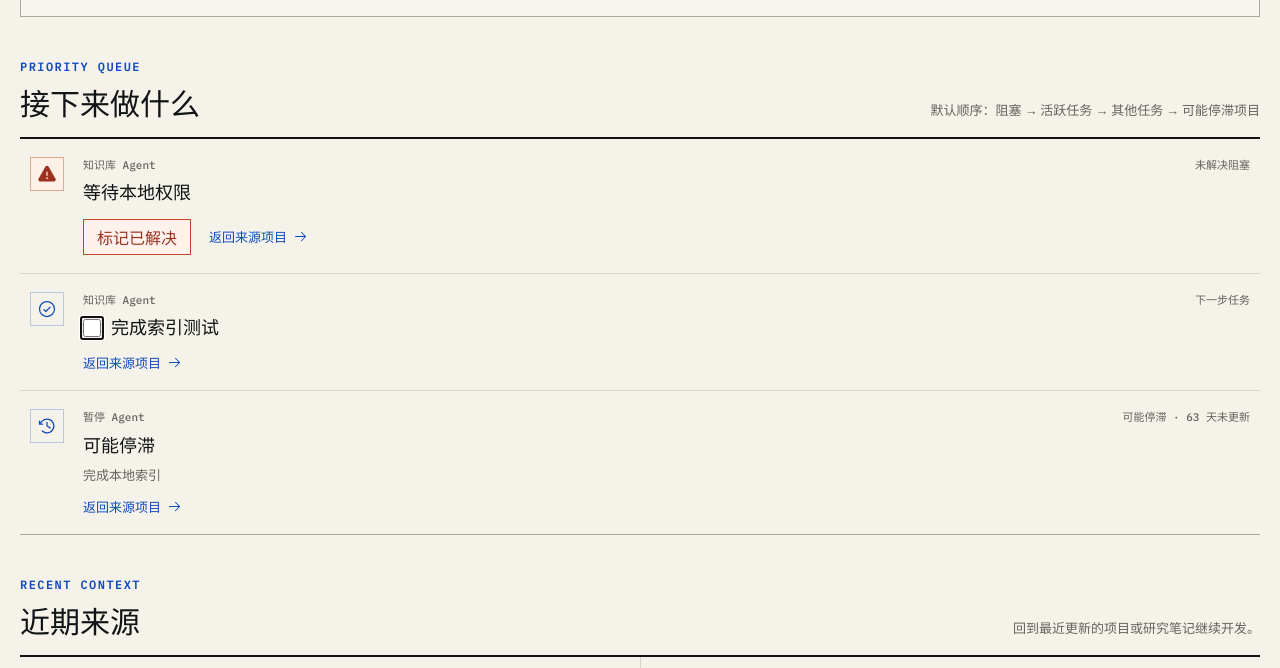
Test: WorkbenchPage › 可用原生复选框更新任务、解决阻塞并播报反馈
(page scrolled)
Click the checkbox labelled "完成索引测试" at (92, 328), box x1=83 y1=319 x2=101 y2=337
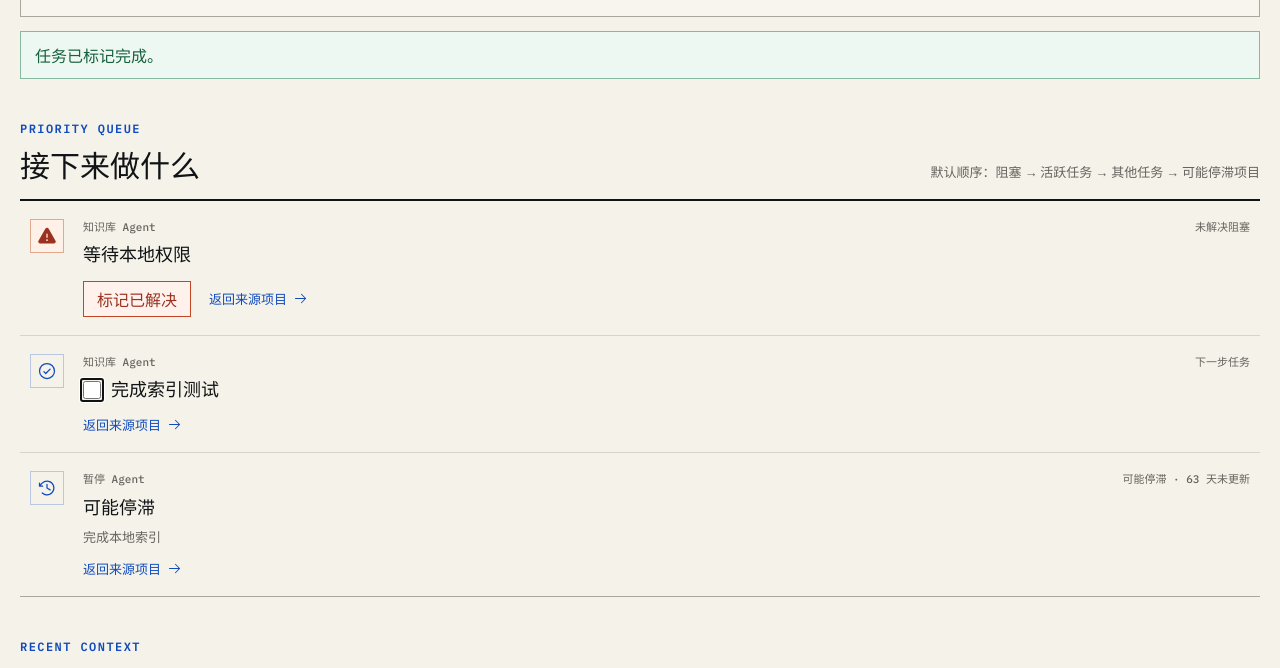
Check: the message shows "任务已标记完成", box x1=35 y1=43 x2=163 y2=67
Click the button "标记已解决" at (137, 299), box x1=83 y1=281 x2=191 y2=317
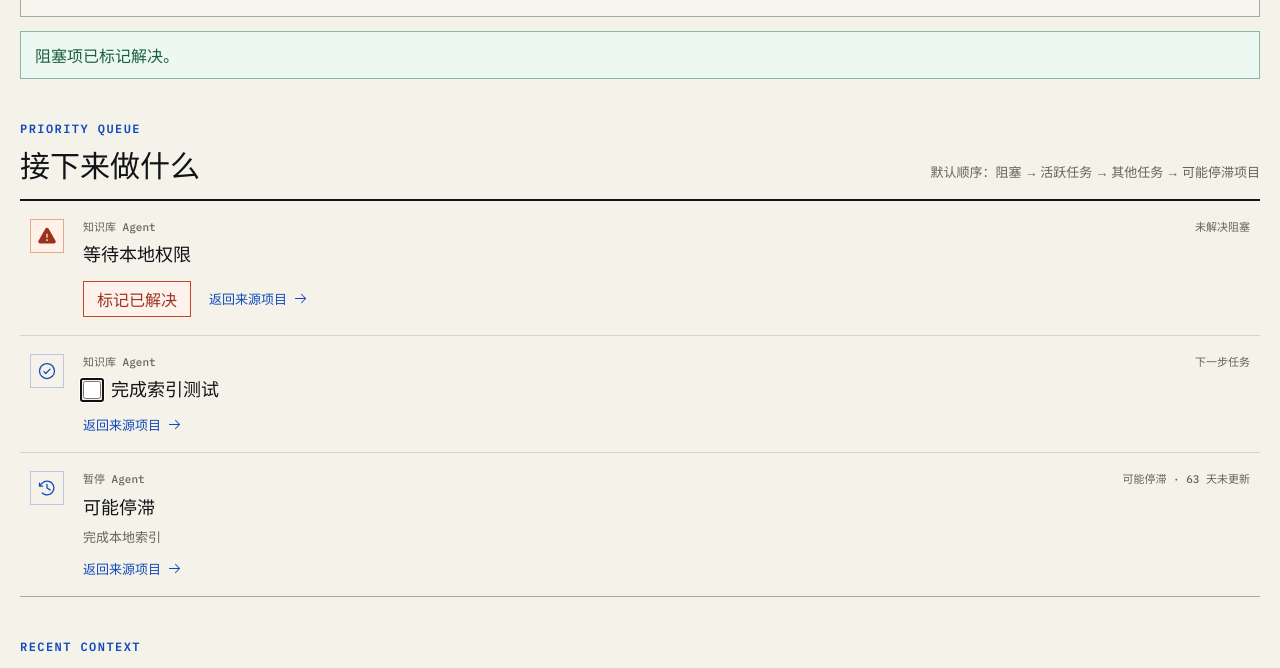
Check: the message shows "阻塞项已标记解决", box x1=35 y1=43 x2=179 y2=67
